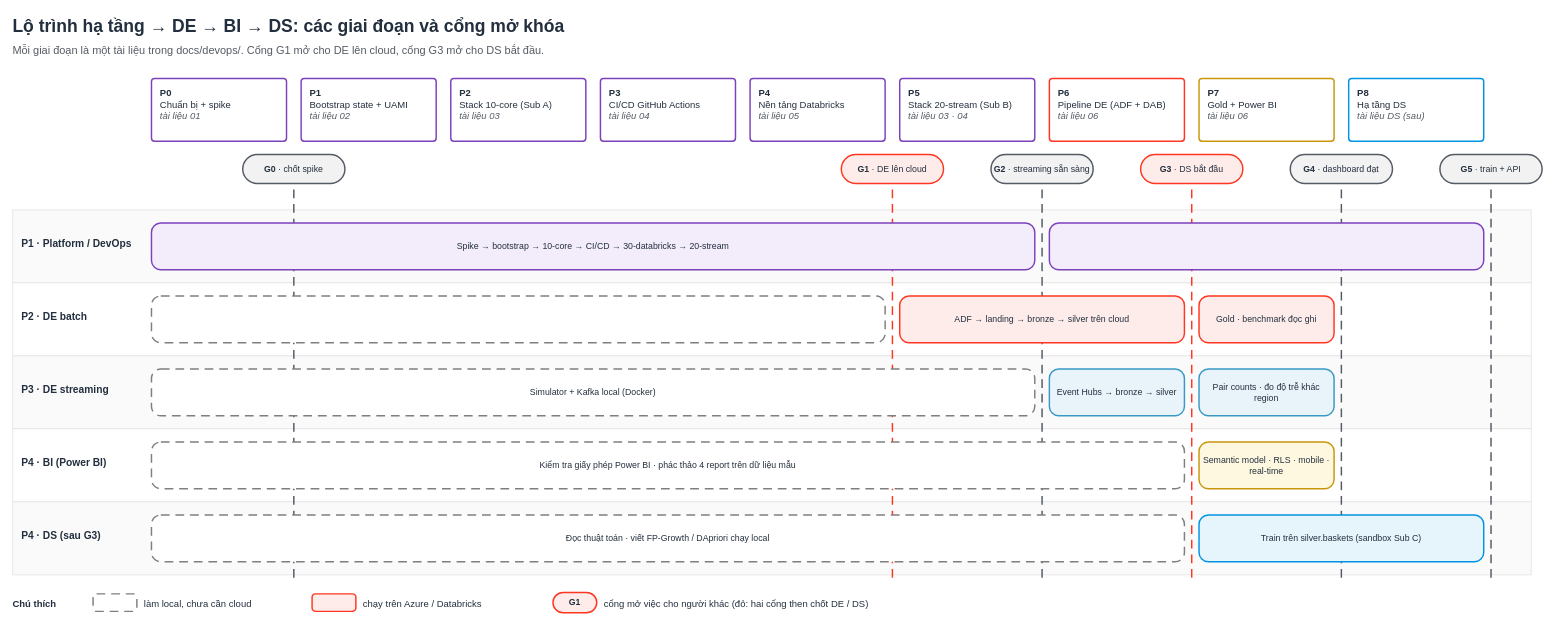
Some shapes in this 1556 by 626 pixel diagram are drawn without their labels. Here are the shapes that lost their labels. From the top down, the box of each, then its label:
(1048, 222, 1484, 270): Hỗ trợ DE/BI · 40-orchestration · theo dõi chi phí · hạ tầng DS (G5)
(150, 295, 885, 343): Viết + test code local (Docker Spark, dữ liệu mẫu)
